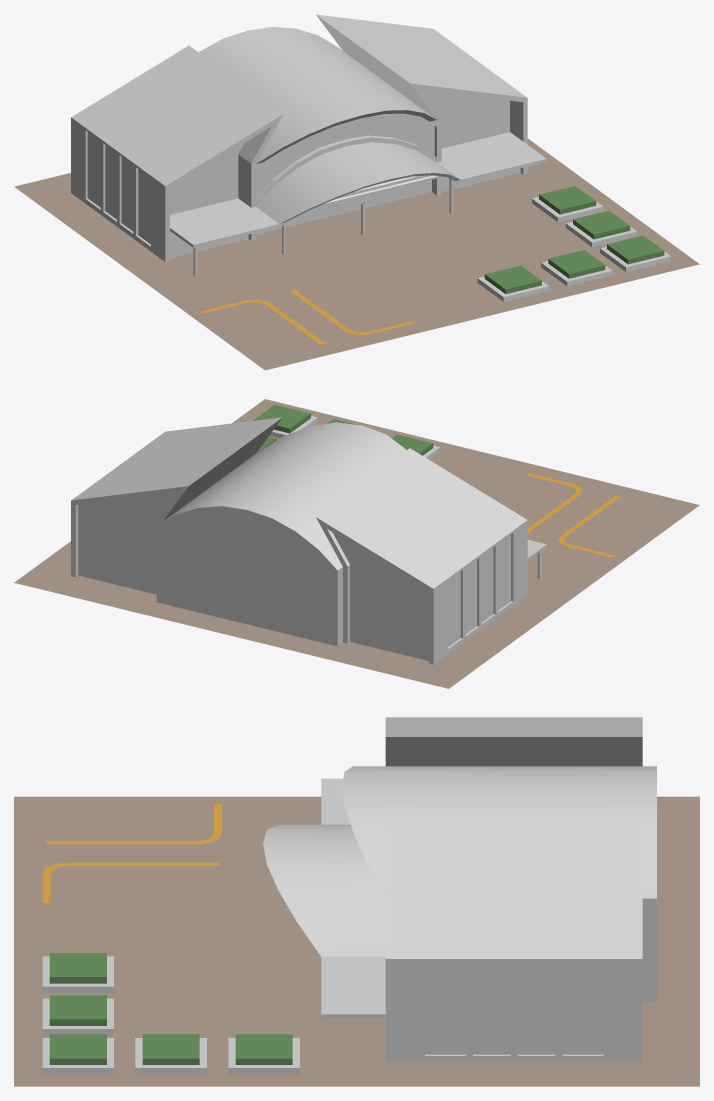
Rendered from tile_poi_expo_6x6_a.fbx.
3 views of the same model, one above another, from view 1: azimuth 30°, elevation 25°; view 2: azimuth 150°, elevation 25°; view 3: azimuth 270°, elevation 25° (orthographic). The views are drawn at different scales.
Parts seen in each view (by area): view 1: tile_poi_expo_6x6_a; view 2: tile_poi_expo_6x6_a; view 3: tile_poi_expo_6x6_a.
Boxes of the visible parts, box(x1,y1,x2,y2) form: tile_poi_expo_6x6_a: box(14, 14, 699, 370); tile_poi_expo_6x6_a: box(14, 399, 699, 688); tile_poi_expo_6x6_a: box(14, 717, 699, 1086).
Bounding box in the file's own units: 9600 × 2511 × 9600.
